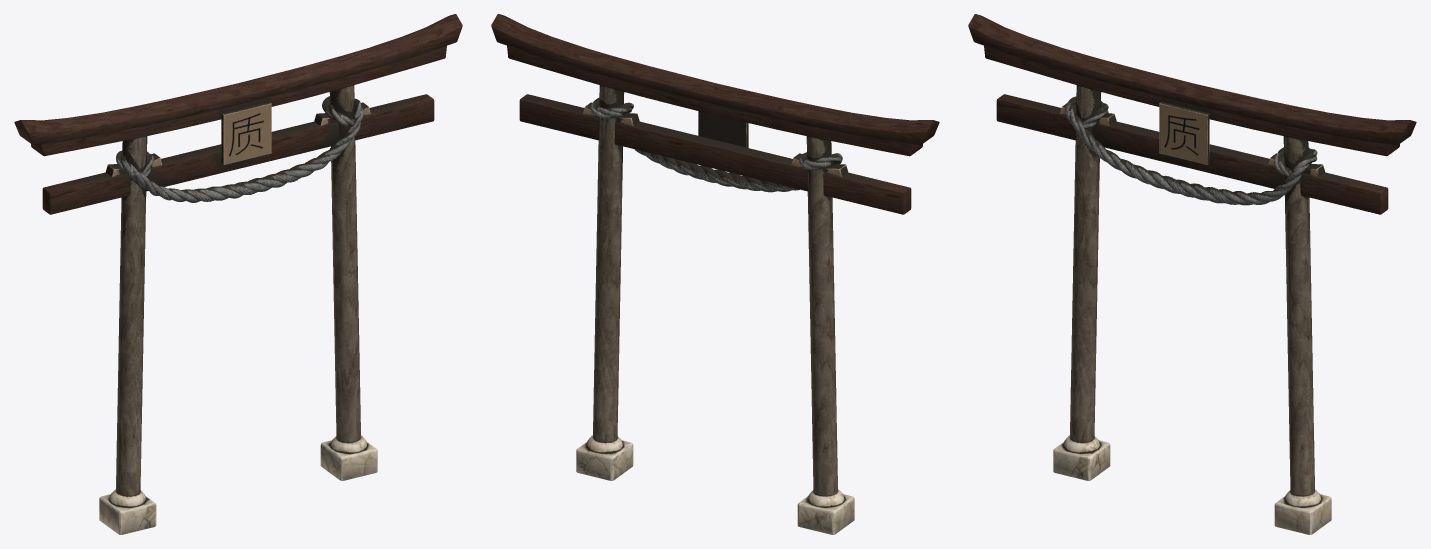
Rendered from japanese_entrance_the_passage.glb.
3 renders of one model, left to right at view 1: azimuth 30°, elevation 25°; view 2: azimuth 150°, elevation 25°; view 3: azimuth 330°, elevation 25°, orthographic.
Parts seen in each view (by area): view 1: Cube__0; view 2: Cube__0; view 3: Cube__0.
Boxes of the visible parts, bbox=[...] form: Cube__0: bbox=[14, 14, 462, 534]; Cube__0: bbox=[491, 14, 939, 534]; Cube__0: bbox=[968, 14, 1416, 534].
Size of the model in its own units: 423 by 398 by 37.4.
1 material, 1 textured.
